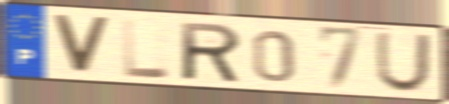0: (249, 28, 301, 84)
7: (316, 25, 364, 94)
L: (120, 17, 172, 81)
R: (178, 20, 244, 85)
U: (373, 31, 434, 95)
V: (49, 12, 113, 77)
